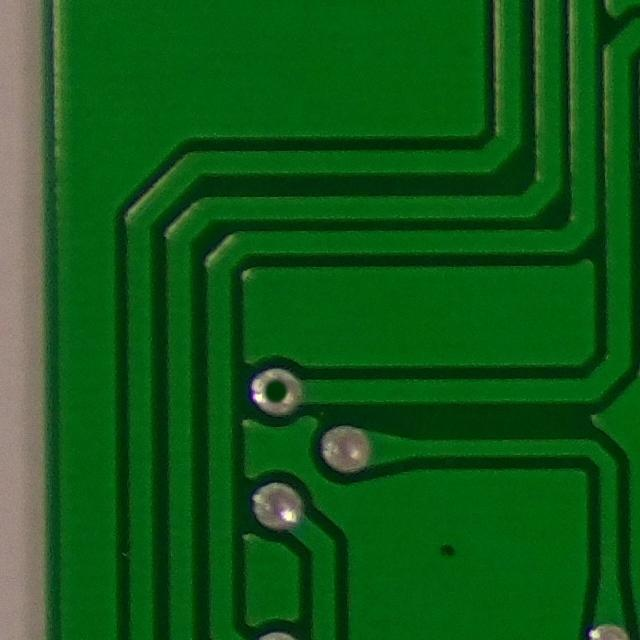missing_hole: (242, 357, 306, 419)
